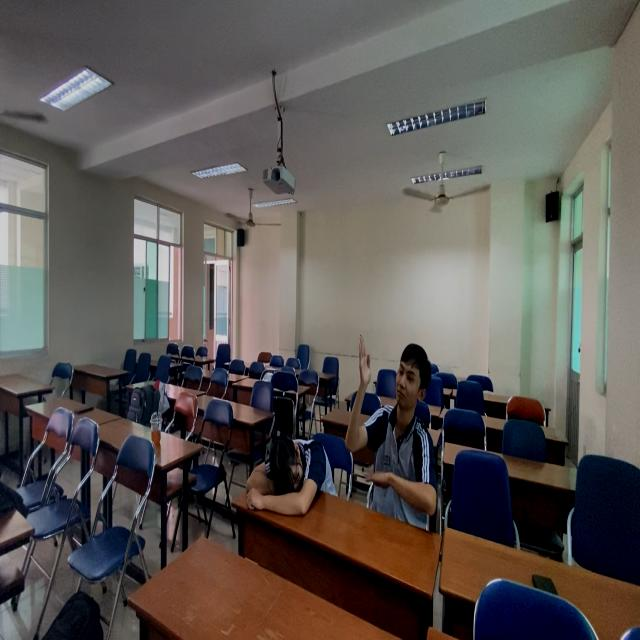raise_hand: (345, 333, 440, 527)
sleep: (244, 424, 336, 516)
